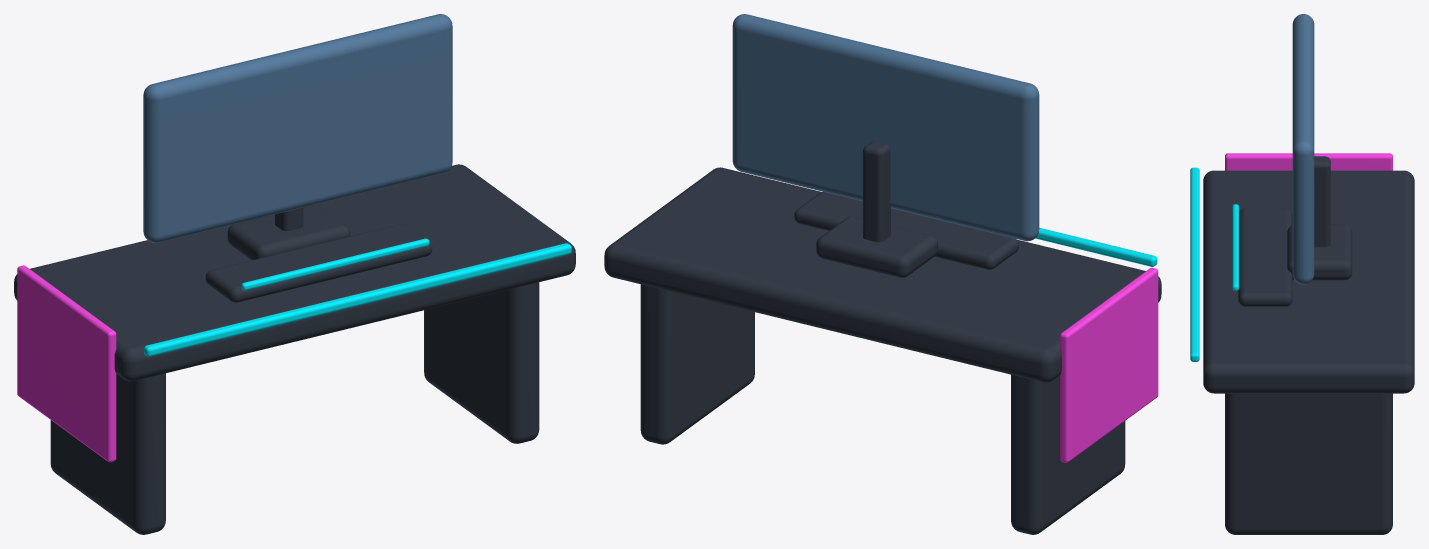
Rendered from 电竞霓虹电脑桌.fbx.
The picture shows the model from 3 angles, left to right: view 1: azimuth 30°, elevation 25°; view 2: azimuth 150°, elevation 25°; view 3: azimuth 270°, elevation 25°; orthographic projection. The views are drawn at different scales.
Visible parts, largest first — view 1: 电竞霓虹电脑桌_超宽显示器, 电竞霓虹电脑桌_宽桌面, 电竞霓虹电脑桌_右支架, 电竞霓虹电脑桌_品红侧灯条, 电竞霓虹电脑桌_左支架, 电竞霓虹电脑桌_键盘, 电竞霓虹电脑桌_青色前灯条, 电竞霓虹电脑桌_显示器底座, 电竞霓虹电脑桌_键盘光带; view 2: 电竞霓虹电脑桌_宽桌面, 电竞霓虹电脑桌_超宽显示器, 电竞霓虹电脑桌_右支架, 电竞霓虹电脑桌_品红侧灯条, 电竞霓虹电脑桌_左支架, 电竞霓虹电脑桌_键盘, 电竞霓虹电脑桌_显示器底座, 电竞霓虹电脑桌_显示器支柱, 电竞霓虹电脑桌_青色前灯条; view 3: 电竞霓虹电脑桌_宽桌面, 电竞霓虹电脑桌_右支架, 电竞霓虹电脑桌_超宽显示器, 电竞霓虹电脑桌_键盘, 电竞霓虹电脑桌_品红侧灯条, 电竞霓虹电脑桌_显示器底座, 电竞霓虹电脑桌_青色前灯条, 电竞霓虹电脑桌_显示器支柱, 电竞霓虹电脑桌_键盘光带.
Part boxes in pixels (x1,y1,x2,y2): 电竞霓虹电脑桌_超宽显示器: [143, 14, 452, 243]; 电竞霓虹电脑桌_宽桌面: [14, 164, 575, 381]; 电竞霓虹电脑桌_右支架: [424, 282, 539, 443]; 电竞霓虹电脑桌_品红侧灯条: [17, 265, 116, 462]; 电竞霓虹电脑桌_左支架: [50, 373, 165, 534]; 电竞霓虹电脑桌_键盘: [205, 224, 432, 302]; 电竞霓虹电脑桌_青色前灯条: [144, 243, 571, 356]; 电竞霓虹电脑桌_显示器底座: [227, 205, 350, 260]; 电竞霓虹电脑桌_键盘光带: [241, 238, 429, 290]; 电竞霓虹电脑桌_宽桌面: [604, 167, 1161, 382]; 电竞霓虹电脑桌_超宽显示器: [732, 14, 1039, 241]; 电竞霓虹电脑桌_右支架: [640, 284, 754, 444]; 电竞霓虹电脑桌_品红侧灯条: [1060, 267, 1158, 462]; 电竞霓虹电脑桌_左支架: [1011, 374, 1125, 534]; 电竞霓虹电脑桌_键盘: [794, 192, 1018, 269]; 电竞霓虹电脑桌_显示器底座: [816, 216, 937, 277]; 电竞霓虹电脑桌_显示器支柱: [863, 141, 890, 242]; 电竞霓虹电脑桌_青色前灯条: [1035, 227, 1157, 266]; 电竞霓虹电脑桌_宽桌面: [1203, 170, 1414, 393]; 电竞霓虹电脑桌_右支架: [1225, 393, 1392, 534]; 电竞霓虹电脑桌_超宽显示器: [1292, 14, 1314, 284]; 电竞霓虹电脑桌_键盘: [1238, 208, 1292, 306]; 电竞霓虹电脑桌_品红侧灯条: [1225, 153, 1392, 170]; 电竞霓虹电脑桌_显示器底座: [1287, 224, 1352, 280]; 电竞霓虹电脑桌_青色前灯条: [1190, 167, 1199, 361]; 电竞霓虹电脑桌_显示器支柱: [1314, 156, 1330, 247]; 电竞霓虹电脑桌_键盘光带: [1232, 204, 1238, 290].
Size of the model in its own units: 177 by 151 by 82.75.
